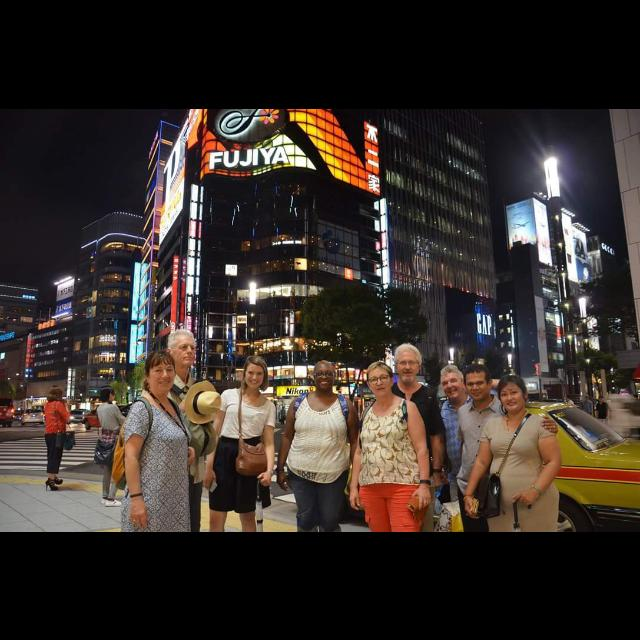head: (144, 350, 176, 392), (497, 374, 529, 414), (462, 364, 493, 402), (165, 332, 197, 368), (395, 343, 423, 383), (367, 362, 395, 396), (242, 356, 268, 390), (441, 367, 465, 399), (313, 361, 337, 391), (100, 388, 114, 402), (51, 386, 64, 400), (565, 395, 571, 403), (599, 396, 605, 402), (586, 396, 590, 402)
person: (92, 384, 134, 510), (42, 383, 78, 492), (592, 395, 612, 439), (564, 393, 578, 425), (581, 395, 595, 427)
